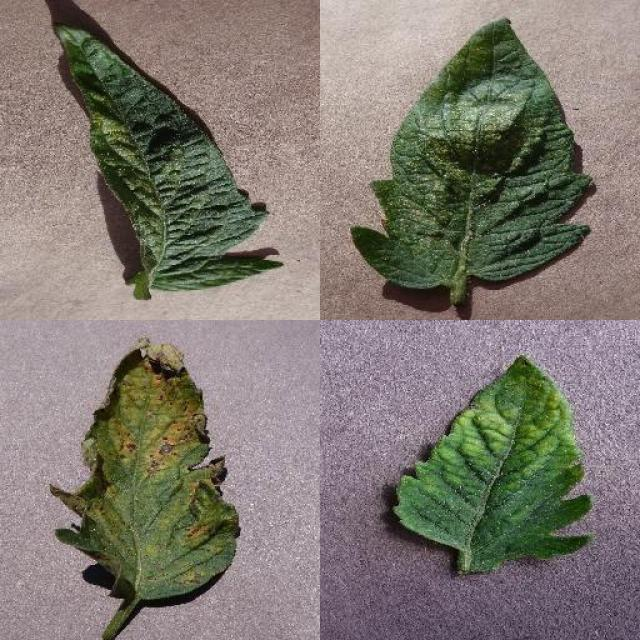Septoria: (50, 338, 241, 602)
